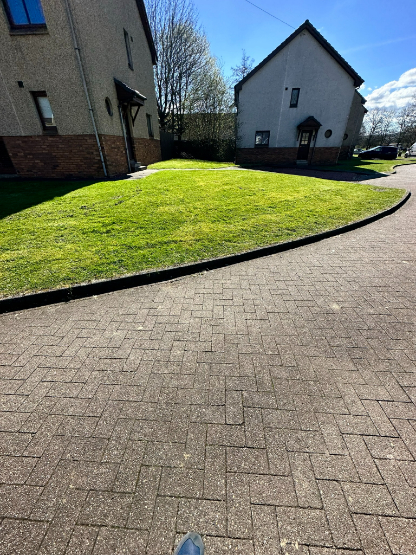tree: (176, 52, 240, 156)
